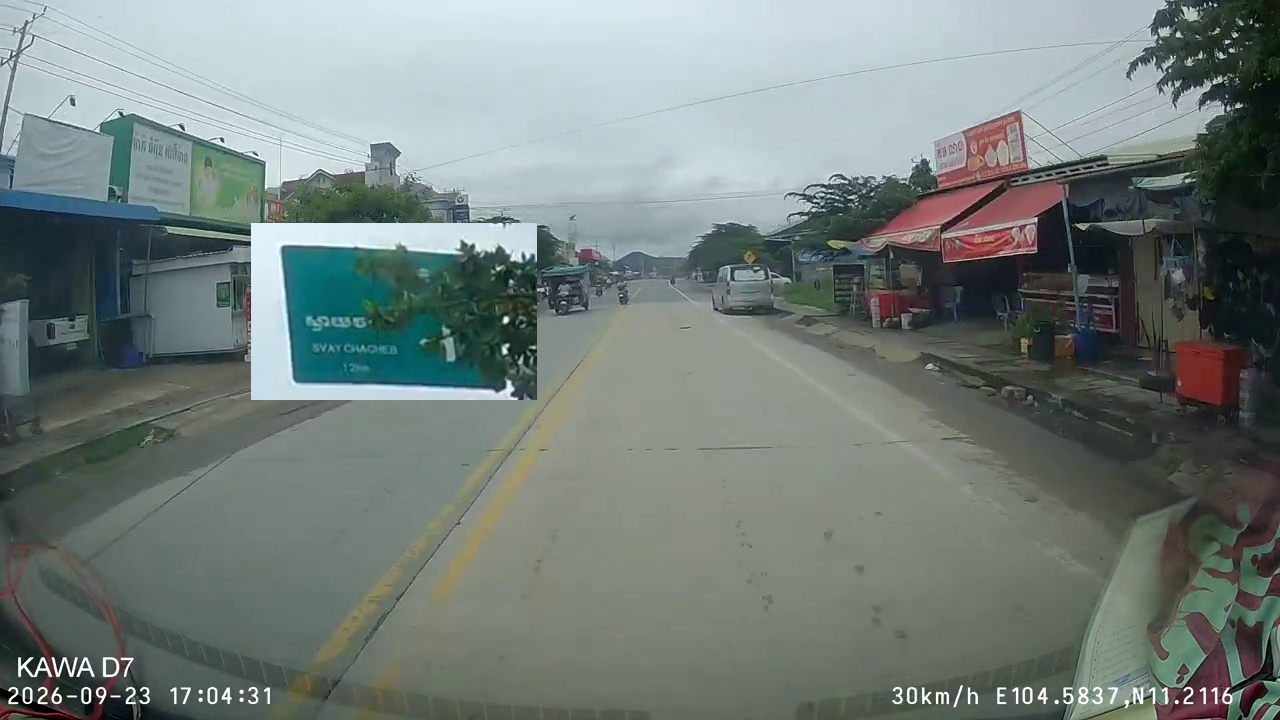direction_sign: (251, 223, 537, 400)
